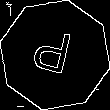P_S: (31, 26, 79, 84)
